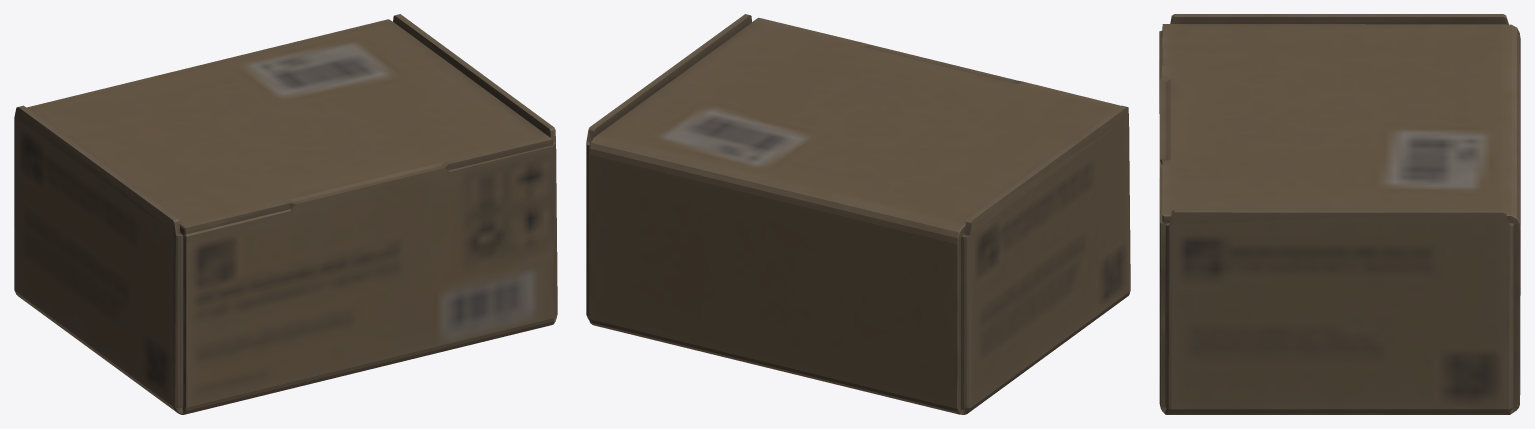
Rendered from box_cardboard_d03.glb.
3 views of the same model, side by side, from view 1: azimuth 30°, elevation 25°; view 2: azimuth 150°, elevation 25°; view 3: azimuth 270°, elevation 25° (orthographic). The views are drawn at different scales.
Parts seen in each view (by area): view 1: geometry_0; view 2: geometry_0; view 3: geometry_0.
Part boxes in pixels (left/top/right/bottom): geometry_0: left=14, top=14, right=557, bottom=414; geometry_0: left=586, top=14, right=1130, bottom=414; geometry_0: left=1159, top=14, right=1520, bottom=414.
Size of the model in its own units: 0.42 by 0.2023 by 0.322.
1 material, 1 textured.
